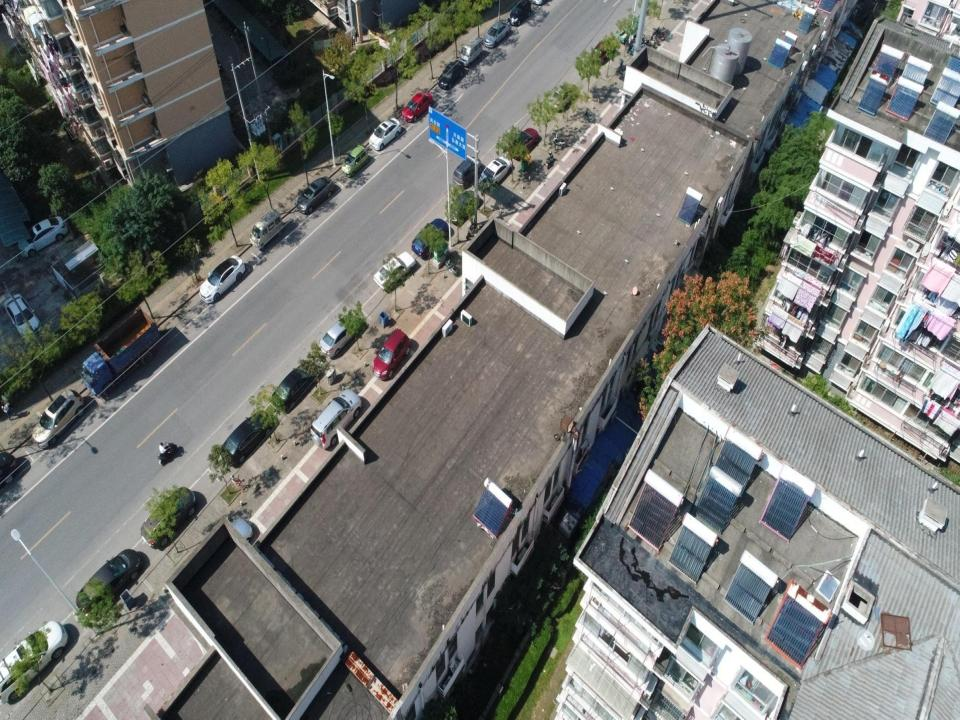car: (0, 620, 69, 706), (76, 548, 140, 617), (140, 486, 195, 548), (309, 388, 362, 450), (31, 389, 84, 450), (221, 411, 276, 467), (271, 360, 319, 415), (3, 292, 44, 347), (17, 215, 68, 259), (199, 256, 245, 304), (318, 311, 364, 358), (372, 328, 411, 382), (373, 251, 416, 292), (211, 517, 253, 556), (412, 218, 450, 260), (296, 175, 334, 214), (444, 189, 480, 224), (368, 116, 402, 151), (507, 127, 540, 161), (479, 156, 513, 189), (401, 91, 433, 122), (341, 144, 369, 177), (438, 59, 466, 91), (547, 84, 575, 113), (483, 19, 510, 48), (589, 37, 616, 65), (509, 1, 532, 27)
truck: (80, 308, 160, 396)
van: (250, 208, 284, 252), (452, 156, 481, 189), (459, 36, 483, 66)
